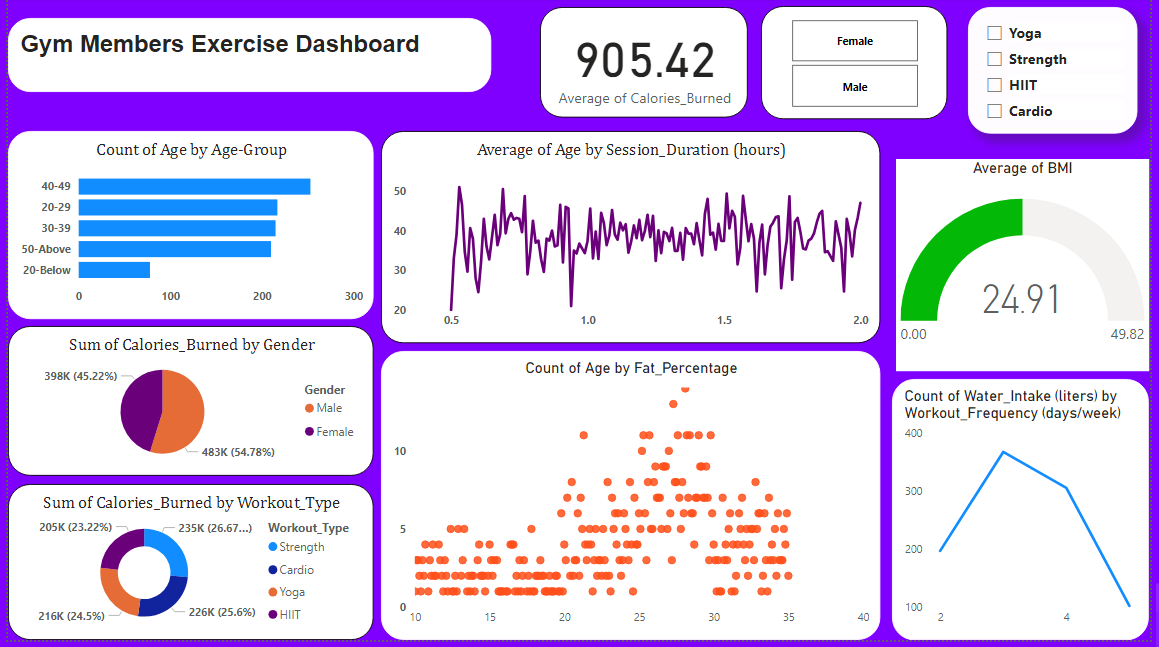

This screenshot's page, from the dashboard's own definition file:
{"tool":"powerbi","page":{"name":"Page 1","canvas":[1280,720],"ordinal":0},"visuals":[{"type":"barChart","fields":{"Y":["CountNonNull(gym_members_exercise_tracking.Age)"],"Category":["gym_members_exercise_tracking.Age-Group"]},"box":[0,149.5,410.1,194.9],"z":0},{"type":"pieChart","fields":{"Category":["gym_members_exercise_tracking.Gender"],"Y":["Sum(gym_members_exercise_tracking.Calories_Burned)"]},"box":[0,360,410.5,168.2],"z":1000},{"type":"lineChart","fields":{"Category":["gym_members_exercise_tracking.Session_Duration (hours)"],"Y":["Avg(gym_members_exercise_tracking.Age)"]},"box":[418.3,149.2,559.6,237.8],"z":2000},{"type":"donutChart","fields":{"Category":["gym_members_exercise_tracking.Workout_Type"],"Y":["Sum(gym_members_exercise_tracking.Calories_Burned)"]},"box":[0,538.3,410.5,171.6],"z":3000},{"type":"scatterChart","fields":{"X":["gym_members_exercise_tracking.Fat_Percentage"],"Y":["CountNonNull(gym_members_exercise_tracking.Age)"]},"box":[418.3,404.9,559.6,315.1],"z":4000},{"type":"lineChart","fields":{"Y":["CountNonNull(gym_members_exercise_tracking.Water_Intake (liters))"],"Category":["gym_members_exercise_tracking.Workout_Frequency (days/week)"]},"box":[991.1,416.7,288.9,293.3],"z":5000},{"type":"textbox","box":[0,22.2,542.2,83.3],"z":6000},{"type":"slicer","fields":{"Values":["gym_members_exercise_tracking.Workout_Type"]},"box":[1075.6,1,190,143],"z":7000},{"type":"slicer","fields":{"Values":["gym_members_exercise_tracking.Gender"]},"box":[847.8,2.2,208.9,126.7],"z":8000},{"type":"card","fields":{"Values":["Avg(gym_members_exercise_tracking.Calories_Burned)"]},"box":[595.6,2.2,233.3,124.4],"z":9000},{"type":"gauge","fields":{"Y":["Avg(gym_members_exercise_tracking.BMI)"]},"box":[991.1,171.1,284.4,237.8],"z":10000}]}

Visuals, with their boxes in screenshot pixels (x1, y1, x2, y2), scaled from the page's 1280x720 canvas onto the 1159x647 screenshot:
barChart - CountNonNull(gym_members_exercise_tracking.Age) x gym_members_exercise_tracking.Age-Group: select_region(0, 134, 371, 309)
pieChart - gym_members_exercise_tracking.Gender x Sum(gym_members_exercise_tracking.Calories_Burned): select_region(0, 324, 372, 475)
lineChart - gym_members_exercise_tracking.Session_Duration (hours) x Avg(gym_members_exercise_tracking.Age): select_region(379, 134, 885, 348)
donutChart - gym_members_exercise_tracking.Workout_Type x Sum(gym_members_exercise_tracking.Calories_Burned): select_region(0, 484, 372, 638)
scatterChart - gym_members_exercise_tracking.Fat_Percentage x CountNonNull(gym_members_exercise_tracking.Age): select_region(379, 364, 885, 646)
lineChart - CountNonNull(gym_members_exercise_tracking.Water_Intake (liters)) x gym_members_exercise_tracking.Workout_Frequency (days/week): select_region(897, 374, 1158, 638)
textbox: select_region(0, 20, 491, 95)
slicer - gym_members_exercise_tracking.Workout_Type: select_region(974, 1, 1146, 129)
slicer - gym_members_exercise_tracking.Gender: select_region(768, 2, 957, 116)
card - Avg(gym_members_exercise_tracking.Calories_Burned): select_region(539, 2, 751, 114)
gauge - Avg(gym_members_exercise_tracking.BMI): select_region(897, 154, 1155, 367)
